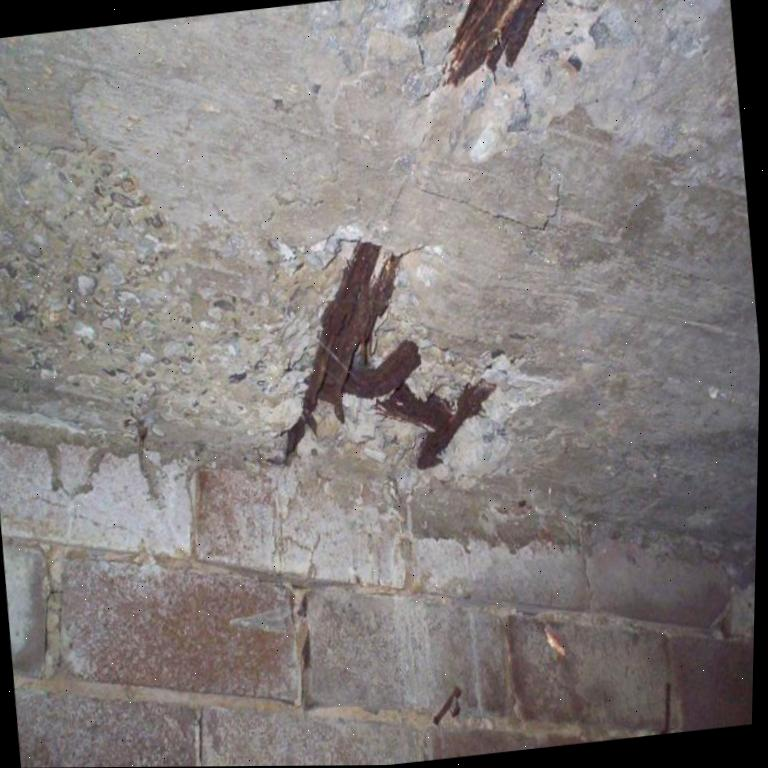exposed_rebar: (285, 241, 494, 469), (444, 0, 545, 85)
spalling: (0, 90, 558, 480), (309, 0, 669, 163)
